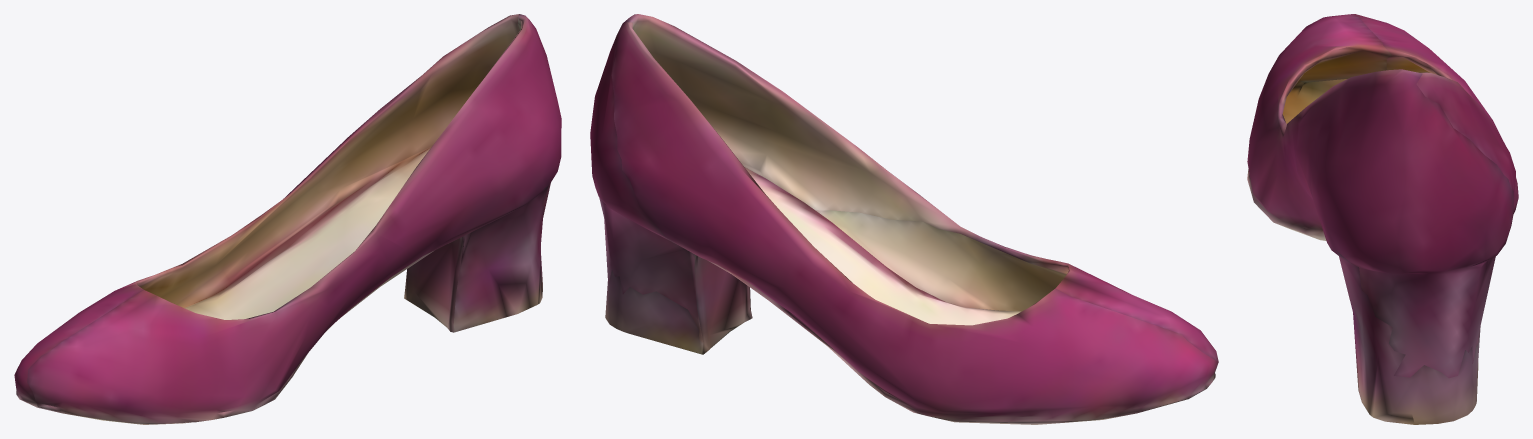
The model's file is Chelsea_lo_fl_rdheel_nQ0LPNF1oMw-medium.glb.
The picture shows the model from 3 angles, left to right: view 1: azimuth 30°, elevation 25°; view 2: azimuth 150°, elevation 25°; view 3: azimuth 270°, elevation 25°; orthographic projection. The views are drawn at different scales.
Parts seen in each view (by area): view 1: Chelsea_lo_fl_rdheel_nQ0LPNF1oMw; view 2: Chelsea_lo_fl_rdheel_nQ0LPNF1oMw; view 3: Chelsea_lo_fl_rdheel_nQ0LPNF1oMw.
Boxes of the visible parts, x1=… form: Chelsea_lo_fl_rdheel_nQ0LPNF1oMw: x1=14, y1=14, x2=561, y2=424; Chelsea_lo_fl_rdheel_nQ0LPNF1oMw: x1=590, y1=14, x2=1218, y2=424; Chelsea_lo_fl_rdheel_nQ0LPNF1oMw: x1=1247, y1=14, x2=1518, y2=424.
Bounding box in the file's own units: 0.2564 × 0.123 × 0.0864.
Materials: 1 (1 with a texture image).
